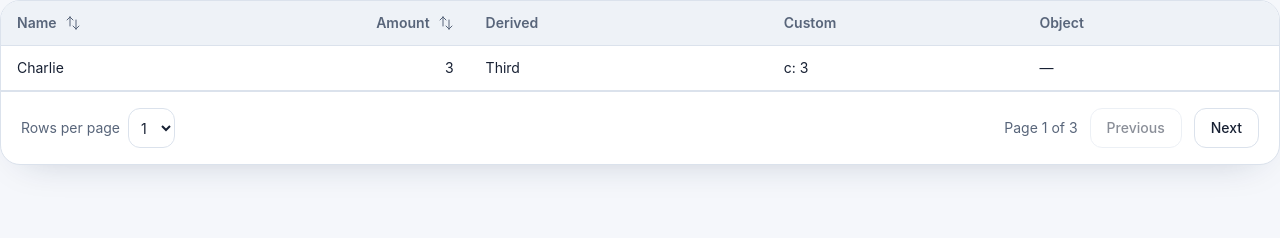
DataTable rendering › paginates, changes page size, and resets to first page on sort
Expected: the text "Page 1 of 3" is shown, [1004,118,1078,138]
Expected: the button with aria-label "Previous page" is disabled, [1090,108,1182,148]
Click the button with aria-label "Next page": (1226, 128) [1194,108,1259,148]
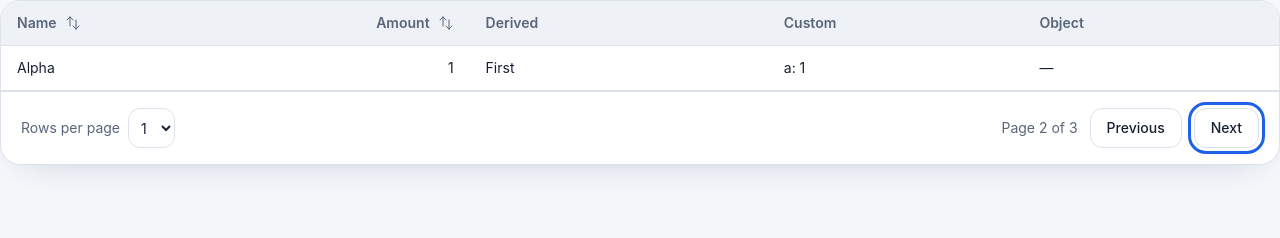
Now the text "Page 2 of 3" is shown, box [1001,118,1078,138]
Click the button "Name": (129, 23) [17,13,241,33]
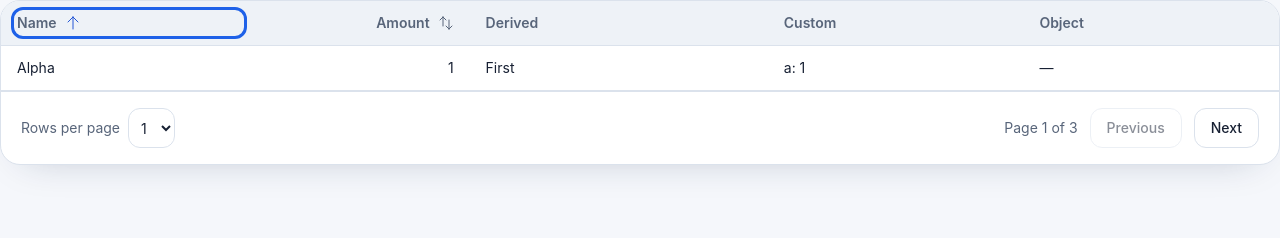
Now the text "Page 1 of 3" is shown, box [1004,118,1078,138]
Select "2" in the dropdown labelled "Rows per page": (152, 128) [128,108,175,148]
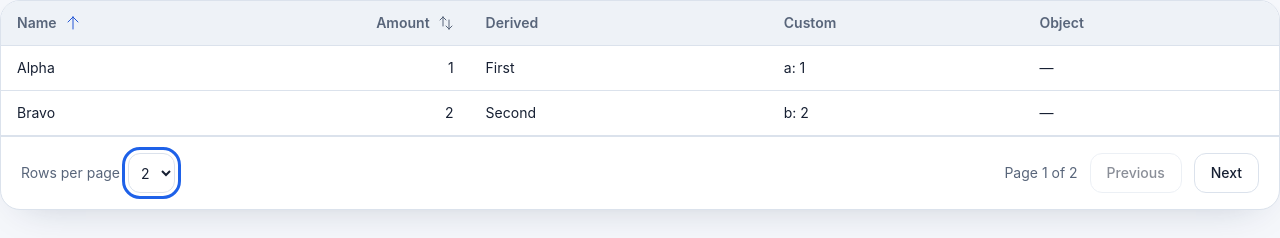
Now the text "Page 1 of 2" is shown, box [1004,163,1078,183]
Click the button with aria-label "Next page": (1226, 173) [1194,153,1259,193]
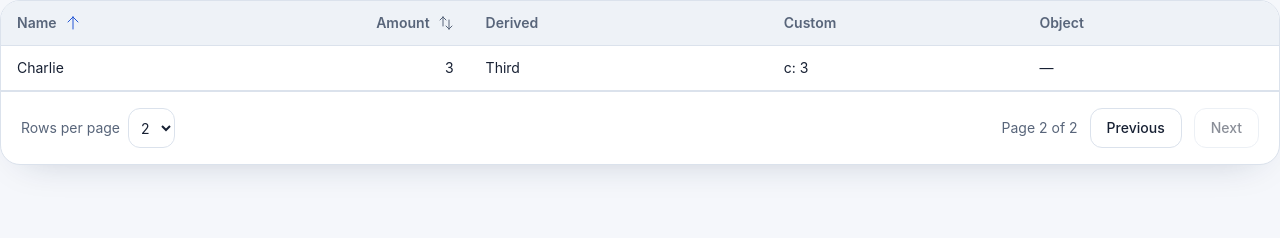
Now the button with aria-label "Next page" is disabled, box [1194,108,1259,148]
